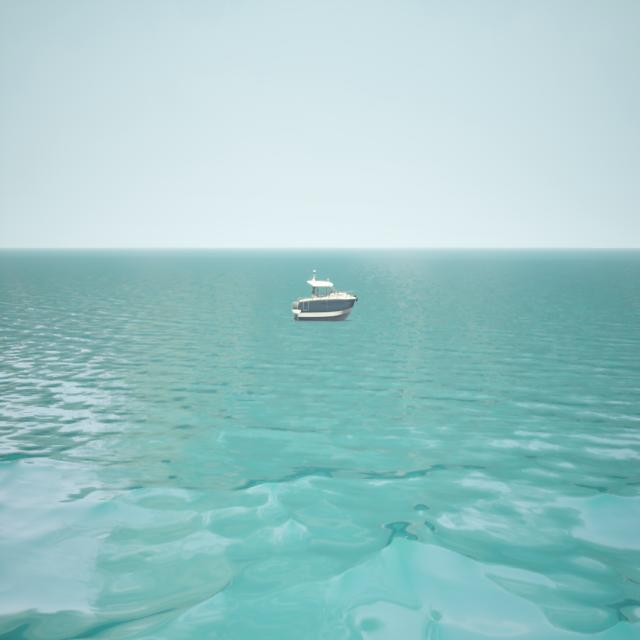ship: (292, 267, 358, 320)
